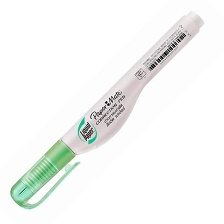correction_fluid: (9, 8, 205, 214)
